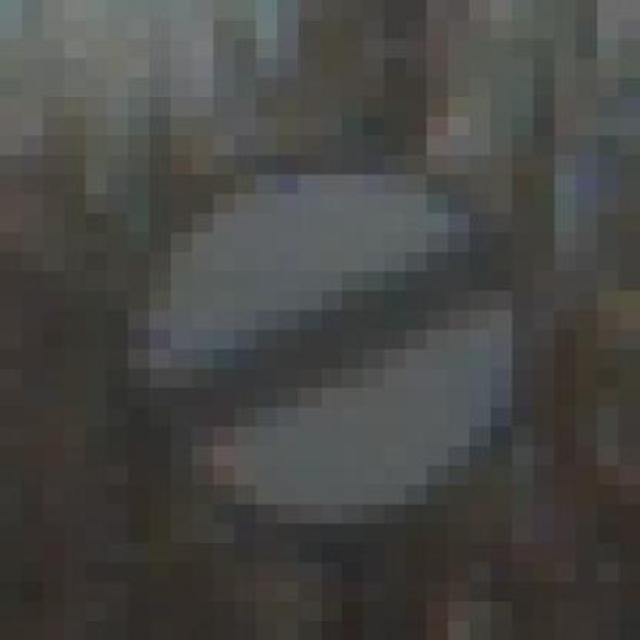End of all speed and passing limits: (107, 116, 576, 544)
